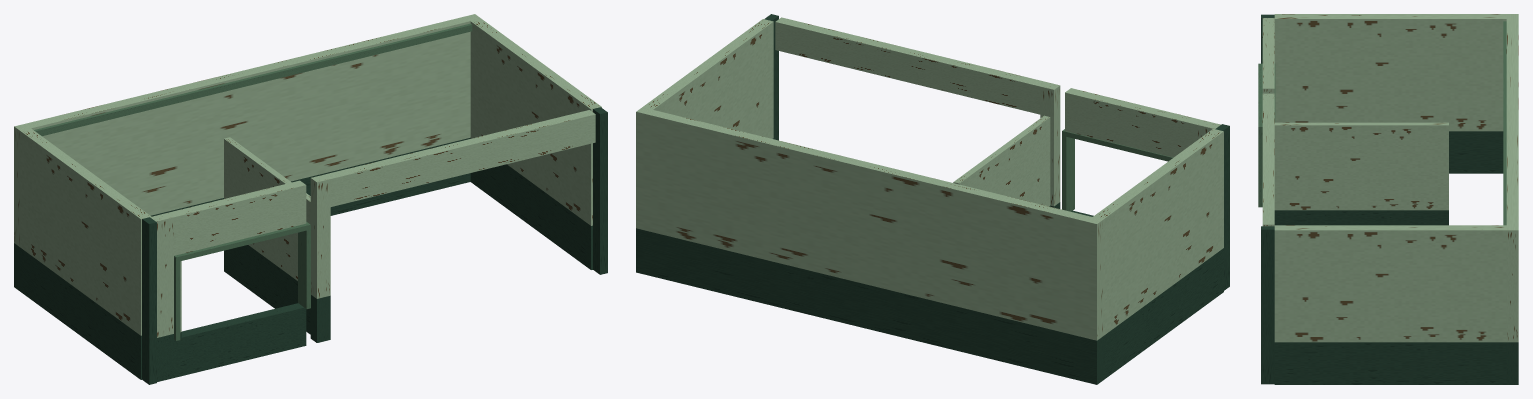
File: ShopShell.fbx
3 views of the same model, side by side, from view 1: azimuth 30°, elevation 25°; view 2: azimuth 150°, elevation 25°; view 3: azimuth 270°, elevation 25° (orthographic). The views are drawn at different scales.
Visible parts, largest first — view 1: ShopShell; view 2: ShopShell; view 3: ShopShell.
Boxes of the visible parts, box(x1,y1,x2,y2) form: ShopShell: box(14, 14, 607, 384); ShopShell: box(636, 14, 1229, 384); ShopShell: box(1258, 14, 1518, 384).
Bounding box in the file's own units: 1200 × 400 × 610.
